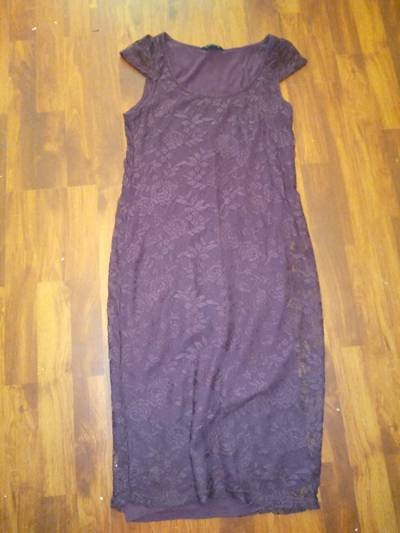Dress: (91, 30, 348, 525)
